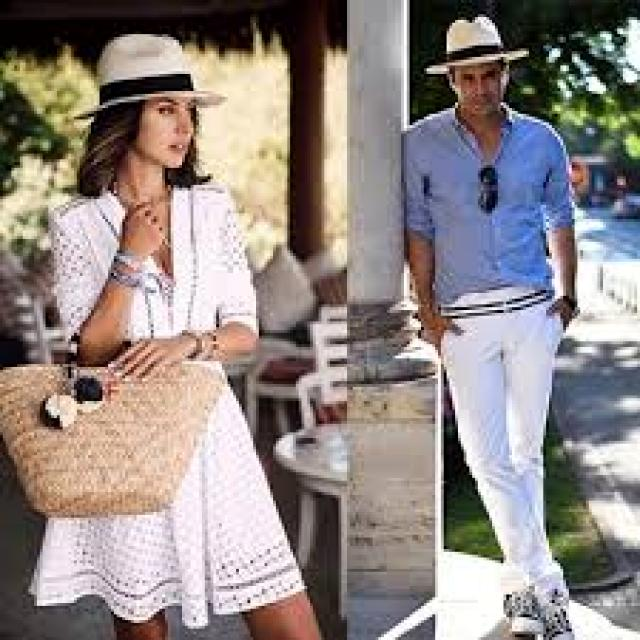dress: (32, 390, 304, 628)
hat: (80, 35, 224, 119), (427, 15, 529, 73)
lower-wear: (441, 288, 566, 594)
